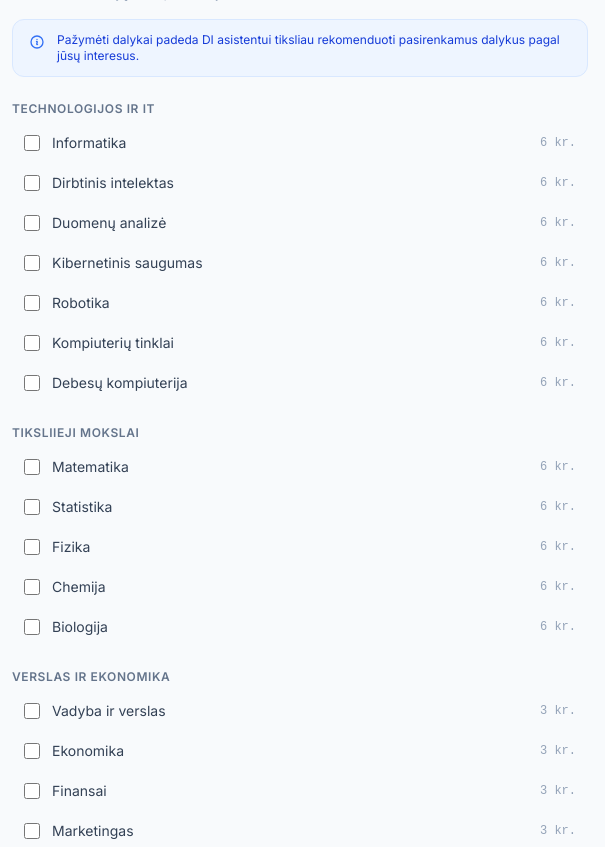
Scenario: SCRUM-71, SCRUM-72: DominantSubjectsPage › AC#3: rodomas sėkmės pranešimas po sėkmingo išsaugojimo
The image size is (605, 847).
Click the checkbox labelled "Informatika 6 kr." at (32, 143), box [24, 135, 40, 151]
(page scrolled)
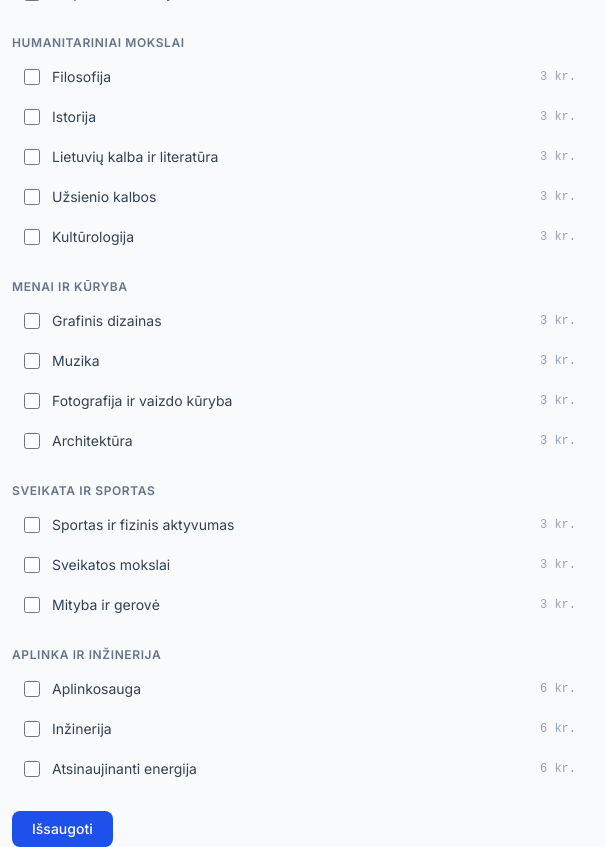
Click the button "Išsaugoti" at (62, 829), box [12, 811, 113, 846]
(page scrolled)
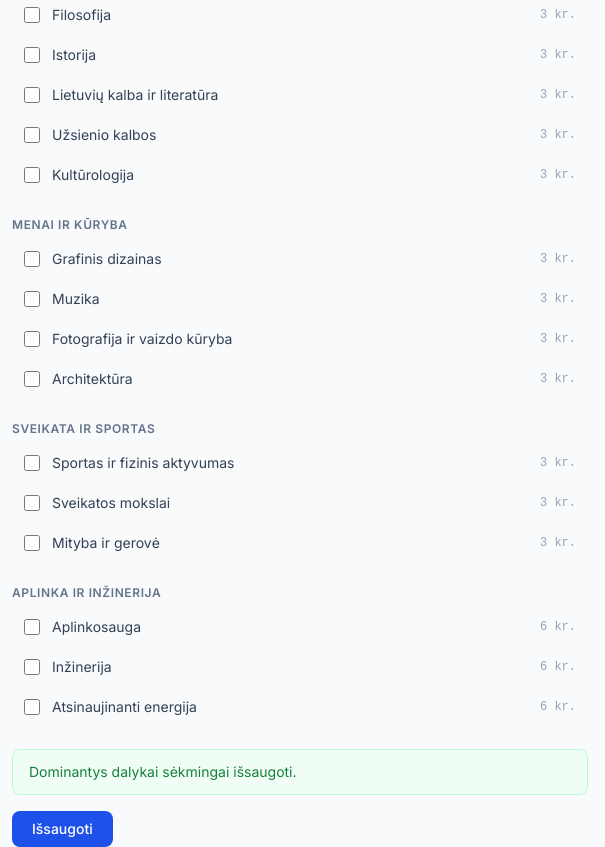
Expected: the text "Dominantys dalykai sėkmingai išsaugoti." is shown, [12, 749, 588, 795]
